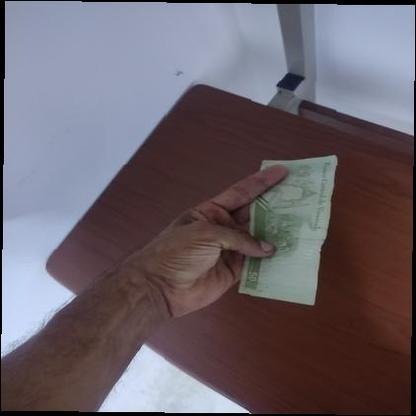vef_back: (238, 154, 338, 307)
